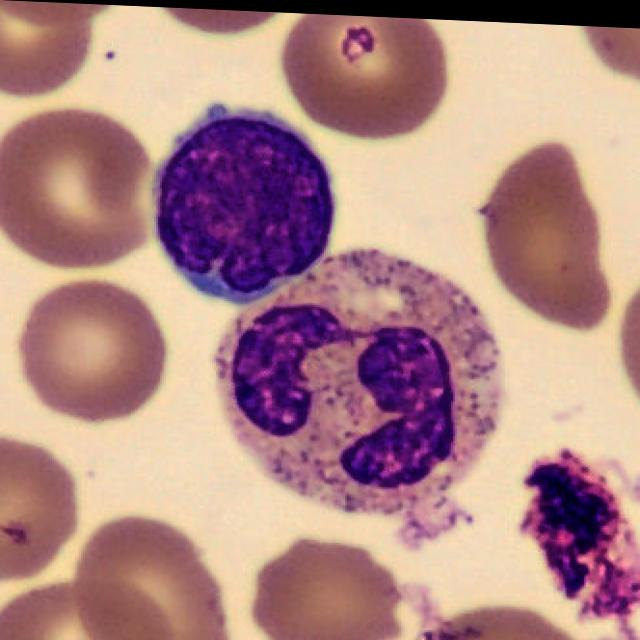Linfocito: (156, 112, 333, 300)
Neutrofilo segmentado: (214, 245, 499, 534)
